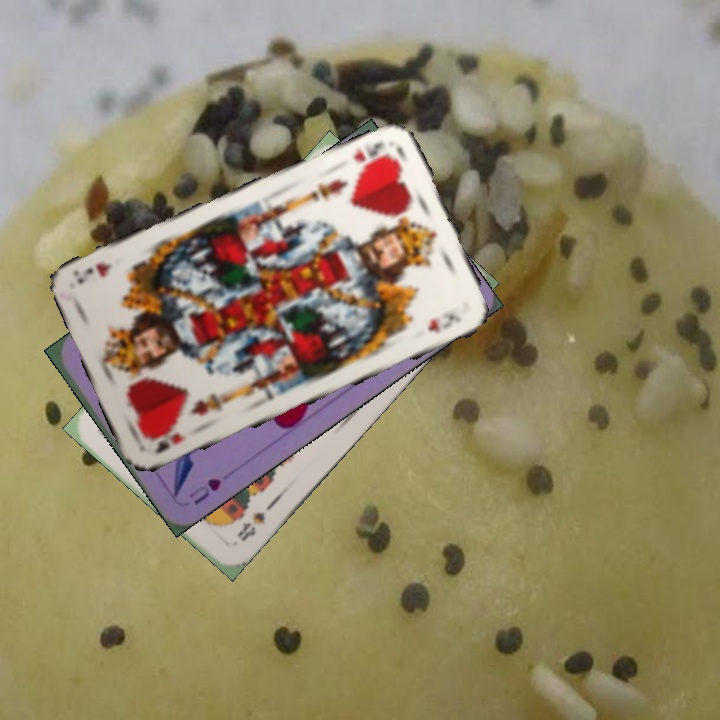HK: (349, 137, 398, 170), (151, 428, 189, 457)
HU: (184, 474, 224, 508)
S8: (232, 507, 268, 544)
